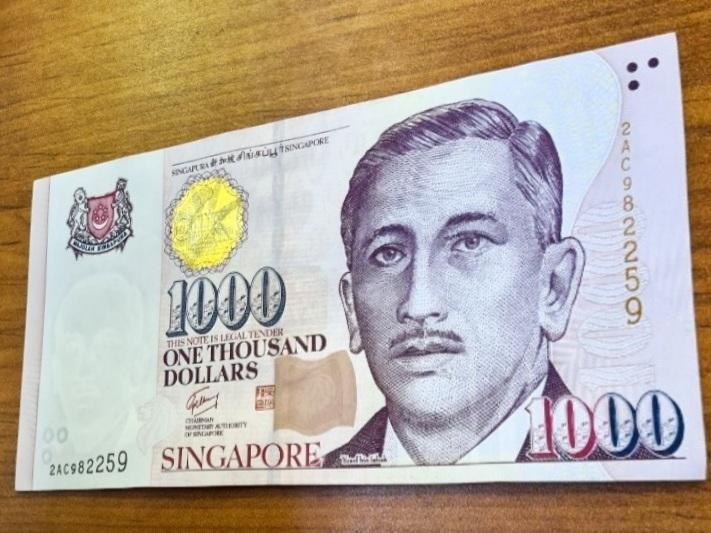1000SingaporeDollar: (35, 58, 685, 479)
